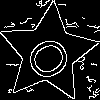O: (23, 28, 82, 85)
